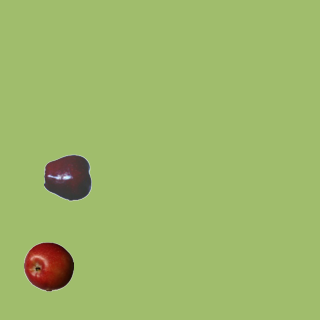Apple Braeburn: (23, 241, 73, 291)
Apple Red Delicious: (43, 152, 93, 202)
